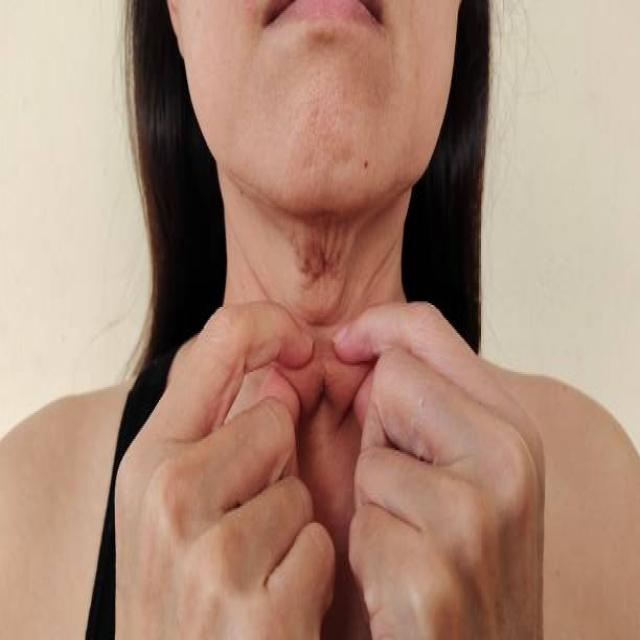Dry-Skin: (187, 39, 456, 245)
